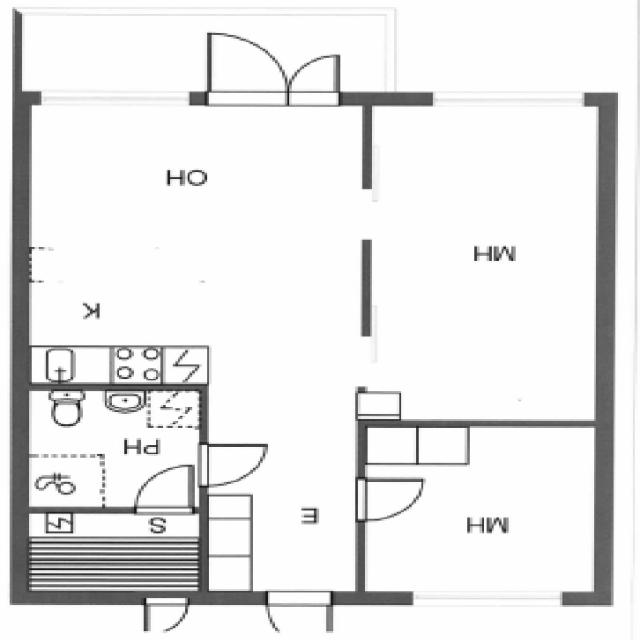door: (206, 31, 285, 93), (262, 590, 337, 640), (281, 51, 350, 105), (195, 441, 269, 490), (128, 462, 196, 512), (357, 475, 425, 523), (139, 594, 192, 638)
window: (426, 89, 590, 115), (35, 88, 195, 113), (406, 586, 570, 610), (351, 185, 382, 248), (206, 88, 289, 109)
zone: (19, 96, 366, 384), (368, 98, 608, 426), (362, 419, 602, 596), (14, 385, 206, 510), (18, 508, 205, 598)
